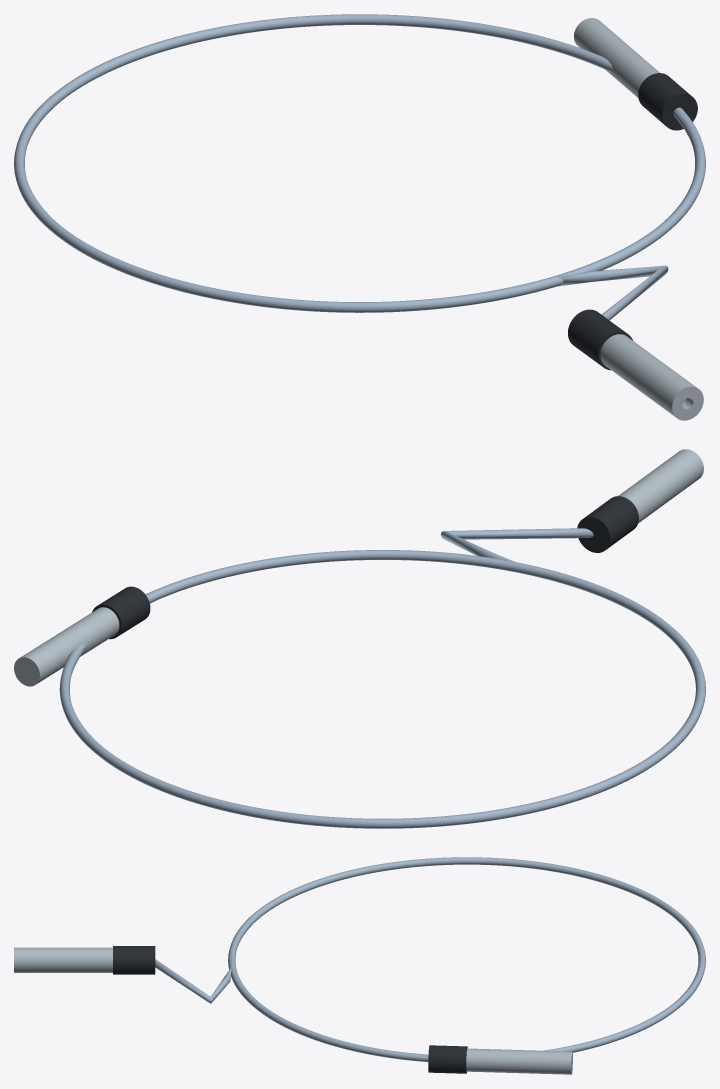
The model's file is generic-fiberoptic-light-cable-198ddcb36aa3.glb.
3 renders of one model, top to bottom at view 1: azimuth 30°, elevation 25°; view 2: azimuth 150°, elevation 25°; view 3: azimuth 270°, elevation 25°, orthographic. The views are drawn at different scales.
Parts seen in each view (by area): view 1: Fiberoptic_Cable_Jacket, Scope_End_Light_Connector, Light_Source_End_Connector, Light_Source_End_Strain_Relief, Scope_End_Strain_Relief; view 2: Fiberoptic_Cable_Jacket, Light_Source_End_Connector, Scope_End_Light_Connector, Scope_End_Strain_Relief, Light_Source_End_Strain_Relief; view 3: Fiberoptic_Cable_Jacket, Scope_End_Light_Connector, Light_Source_End_Connector, Scope_End_Strain_Relief, Light_Source_End_Strain_Relief.
Part boxes in pixels (x1,y1,x2,y2): Fiberoptic_Cable_Jacket: (14,14,705,320); Scope_End_Light_Connector: (600,334,703,420); Light_Source_End_Connector: (574,18,659,97); Light_Source_End_Strain_Relief: (638,73,697,130); Scope_End_Strain_Relief: (568,309,632,370); Fiberoptic_Cable_Jacket: (59,528,705,828); Light_Source_End_Connector: (14,607,119,686); Scope_End_Light_Connector: (618,449,703,523); Scope_End_Strain_Relief: (577,496,638,552); Light_Source_End_Strain_Relief: (92,586,150,639); Fiberoptic_Cable_Jacket: (155,857,705,1061); Scope_End_Light_Connector: (14,947,112,972); Light_Source_End_Connector: (466,1048,572,1074); Scope_End_Strain_Relief: (113,946,155,974); Light_Source_End_Strain_Relief: (428,1045,467,1073).
Size of the model in its own units: 0.2343 by 0.0136 by 0.3284.
